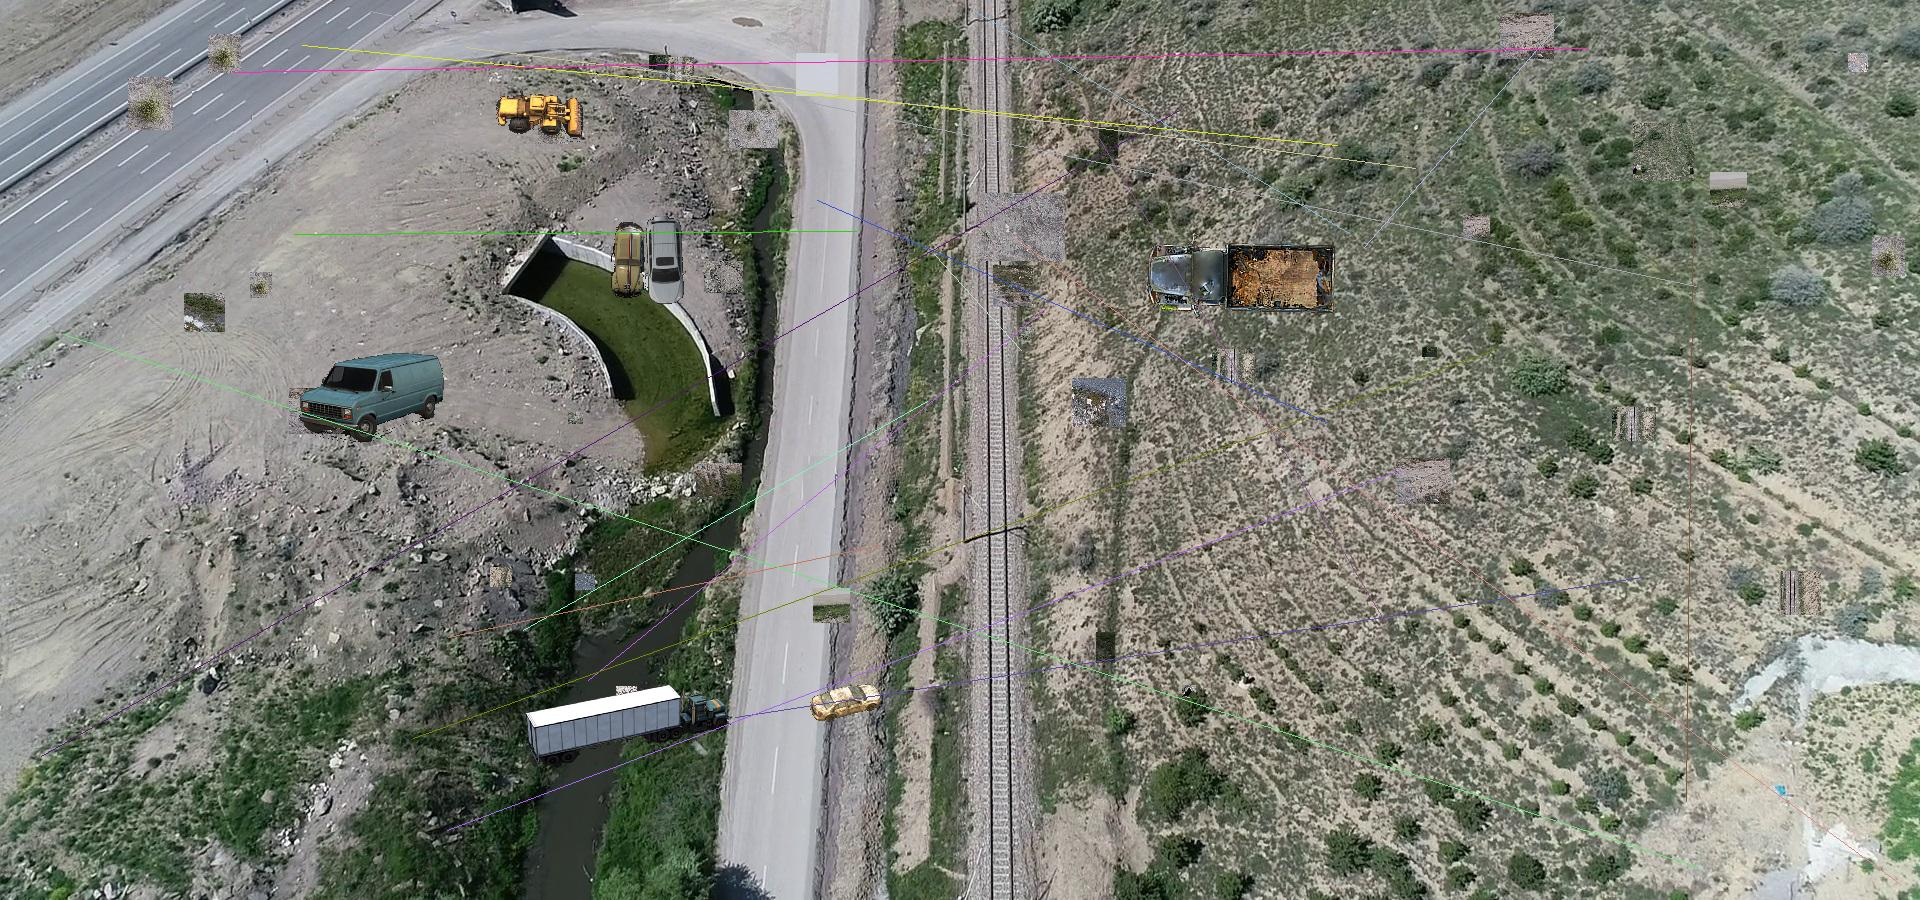arac: (1144, 229, 1340, 324), (522, 682, 732, 765), (298, 347, 444, 444), (492, 81, 590, 144), (642, 216, 687, 304), (808, 683, 880, 722), (610, 222, 647, 298)
